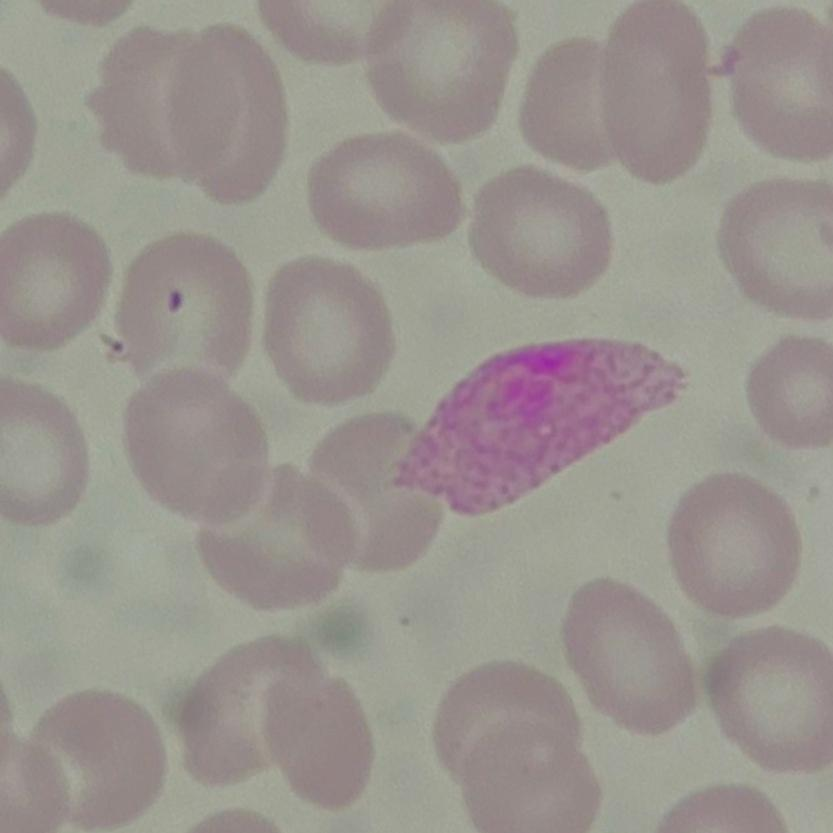Infected: (380, 331, 687, 516)
Uninfected: (433, 656, 603, 829), (192, 463, 364, 611), (120, 368, 274, 529), (303, 408, 444, 577), (90, 24, 235, 186), (363, 1, 517, 144), (114, 232, 259, 382), (560, 578, 697, 733), (175, 632, 316, 782), (598, 1, 714, 182), (23, 689, 166, 831), (259, 258, 397, 405), (174, 19, 284, 203), (470, 167, 611, 304), (666, 474, 797, 619), (306, 133, 463, 253), (708, 628, 833, 770), (723, 7, 831, 163), (264, 659, 372, 802), (720, 178, 831, 316), (0, 211, 109, 350), (519, 38, 619, 174), (1, 379, 91, 527), (745, 338, 833, 449), (258, 1, 380, 65)
